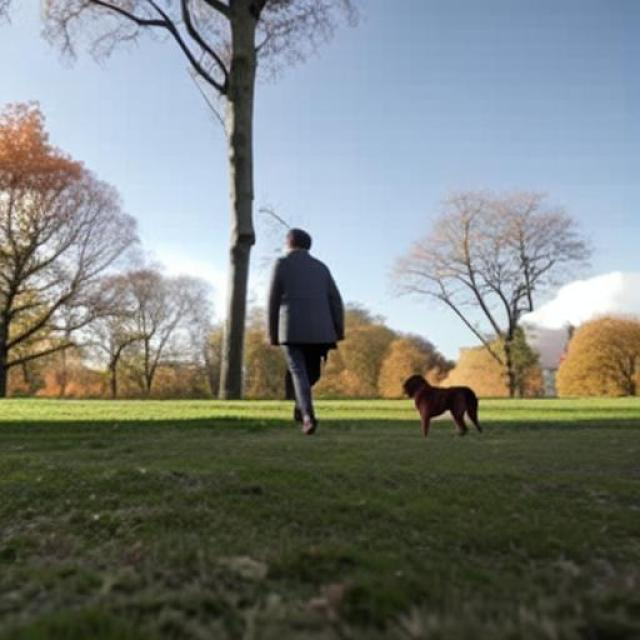Unleashed_Dog: (282, 344, 482, 436)
